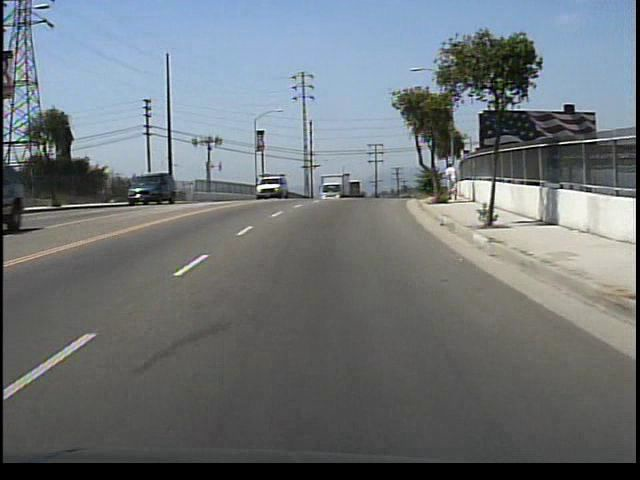person: (443, 159, 462, 204)
